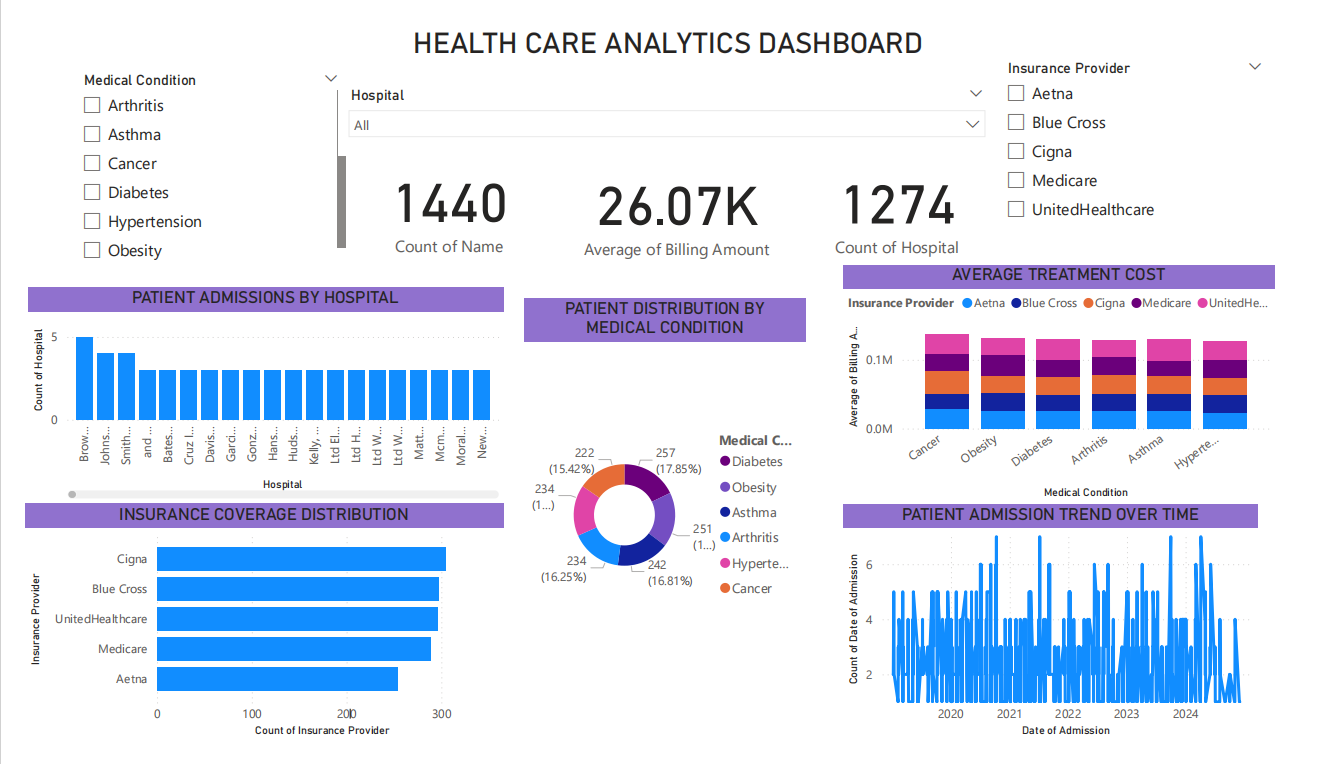

Layout of this report page (visuals, bound fields, positions):
{"tool":"powerbi","page":{"name":"Page 1","canvas":[1280,720],"ordinal":0},"visuals":[{"type":"donutChart","title":"PATIENT DISTRIBUTION BY MEDICAL CONDITION ","fields":{"Category":["Sql.Medical Condition"],"Y":["CountNonNull(Sql.Medical Condition)"]},"box":[498.7,277.4,280.9,394.9],"z":0},{"type":"clusteredColumnChart","title":"PATIENT ADMISSIONS BY HOSPITAL ","fields":{"Category":["Sql.Hospital"],"Y":["CountNonNull(Sql.Hospital)"]},"box":[3.4,265.5,474.9,216.2],"z":1000},{"type":"clusteredBarChart","title":"INSURANCE COVERAGE DISTRIBUTION ","fields":{"Category":["Sql.Insurance Provider"],"Y":["CountNonNull(Sql.Insurance Provider)"]},"box":[0,481.7,478.3,238.3],"z":2000},{"type":"lineChart","title":"PATIENT ADMISSION TREND OVER TIME","fields":{"Y":["CountNonNull(Sql.Date of Admission)"],"Category":["Sql.Date of Admission"]},"box":[817,481.7,413.6,238.3],"z":3000},{"type":"columnChart","title":"AVERAGE TREATMENT COST ","fields":{"Category":["Sql.Medical Condition"],"Y":["Avg(Sql.Billing Amount)"],"Series":["Sql.Insurance Provider"]},"box":[817,243.4,430.6,238.3],"z":4000},{"type":"card","fields":{"Values":["CountNonNull(Sql.Name)"]},"box":[325.1,127.7,197.4,115.7],"z":4001},{"type":"card","fields":{"Values":["Avg(Sql.Billing Amount)"]},"box":[522.6,134.5,257,108.9],"z":4002},{"type":"card","fields":{"Values":["Count(Sql.Hospital)"]},"box":[772.8,131.1,195.7,112.3],"z":4003},{"type":"slicer","title":"MEDICAL CONDITION ","fields":{"Values":["Sql.Medical Condition"]},"box":[46,46,279.1,197.4],"z":4004},{"type":"slicer","fields":{"Values":["Sql.Insurance Provider"]},"box":[968.5,34,279.1,209.4],"z":4005},{"type":"slicer","fields":{"Values":["Sql.Hospital"]},"box":[313.2,61.3,655.3,73.2],"z":4006},{"type":"textbox","box":[313.2,0,665.5,61.3],"z":4007}]}

Visuals, with their boxes in screenshot pixels (x1, y1, x2, y2), scaled from the page's 1280x720 canvas onto the 1327x764 screenshot:
"PATIENT DISTRIBUTION BY MEDICAL CONDITION " donutChart: <box>517,294,808,713</box>
"PATIENT ADMISSIONS BY HOSPITAL " clusteredColumnChart: <box>4,282,496,511</box>
"INSURANCE COVERAGE DISTRIBUTION " clusteredBarChart: <box>0,511,496,763</box>
"PATIENT ADMISSION TREND OVER TIME" lineChart: <box>847,511,1276,763</box>
"AVERAGE TREATMENT COST " columnChart: <box>847,258,1293,511</box>
card - CountNonNull(Sql.Name): <box>337,136,542,258</box>
card - Avg(Sql.Billing Amount): <box>542,143,808,258</box>
card - Count(Sql.Hospital): <box>801,139,1004,258</box>
"MEDICAL CONDITION " slicer: <box>48,49,337,258</box>
slicer - Sql.Insurance Provider: <box>1004,36,1293,258</box>
slicer - Sql.Hospital: <box>325,65,1004,143</box>
textbox: <box>325,0,1015,65</box>
